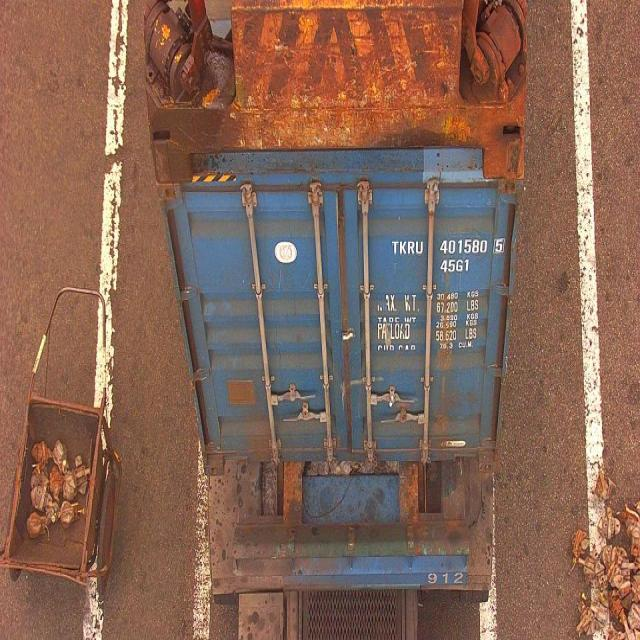ISO: (440, 258, 470, 272)
container_number: (390, 238, 504, 256)
